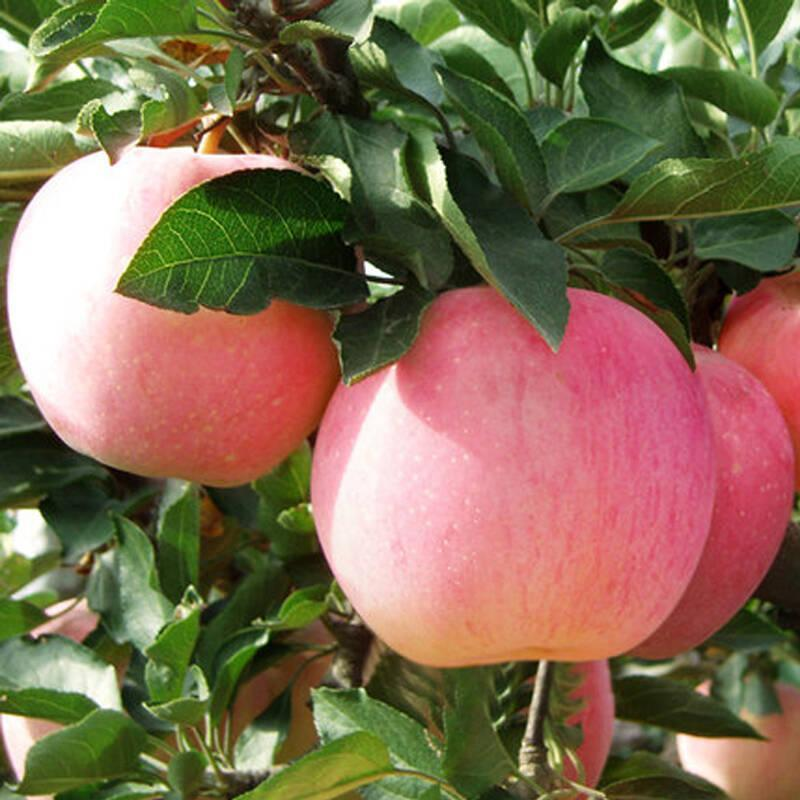apple: (312, 284, 717, 680), (6, 143, 338, 494)
